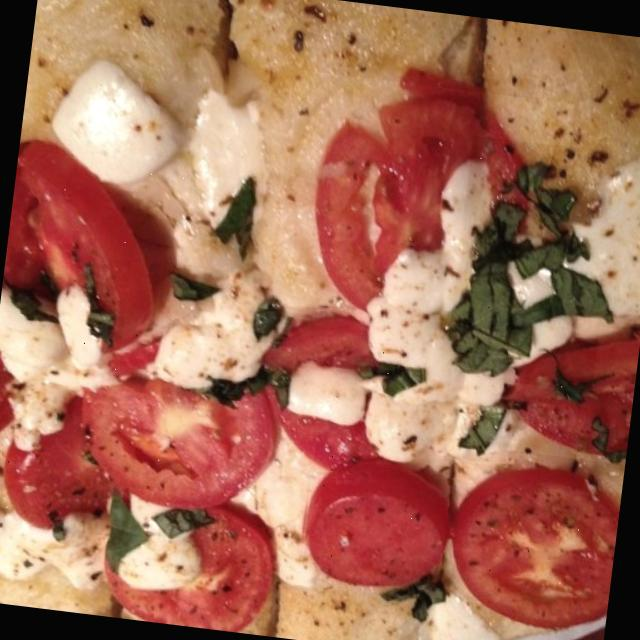basil: (444, 136, 620, 392), (80, 482, 226, 583), (0, 245, 130, 343), (181, 174, 280, 278), (360, 557, 474, 640), (185, 334, 296, 418), (440, 366, 509, 466), (344, 341, 423, 412), (158, 262, 242, 322)
pizza: (0, 0, 640, 640)
tomato: (270, 70, 574, 336), (0, 139, 192, 396), (70, 340, 292, 529), (255, 314, 473, 485), (434, 450, 624, 638), (68, 474, 288, 636), (296, 457, 453, 601), (494, 315, 640, 464), (0, 406, 142, 559), (0, 345, 39, 459)
